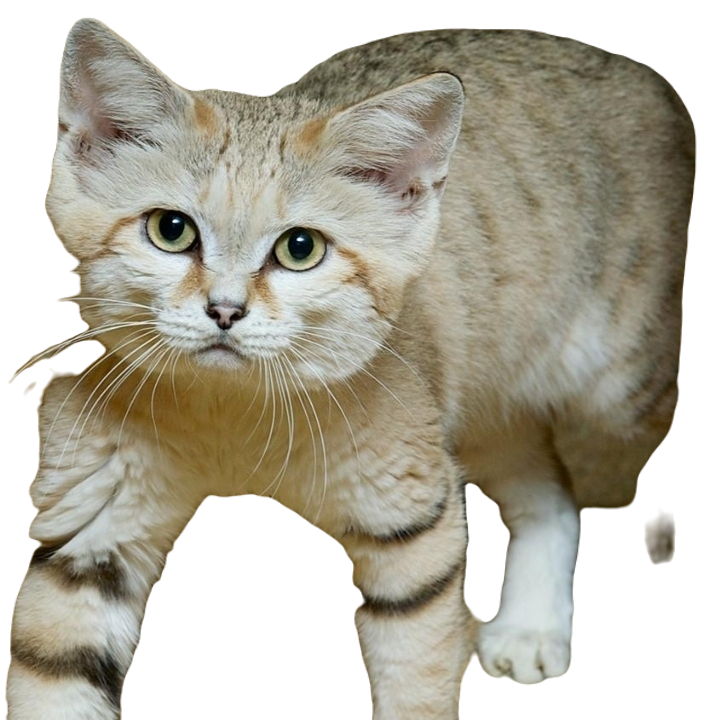Cat: (1, 14, 706, 719)
